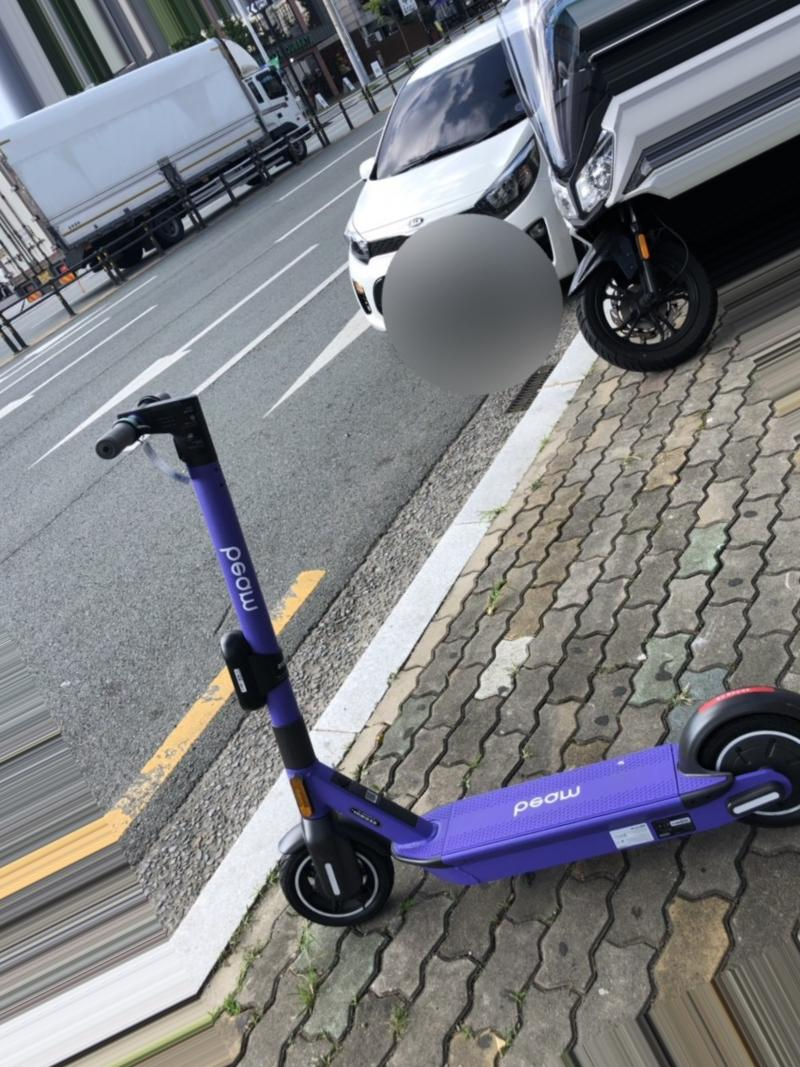scooter: (96, 390, 800, 927)
